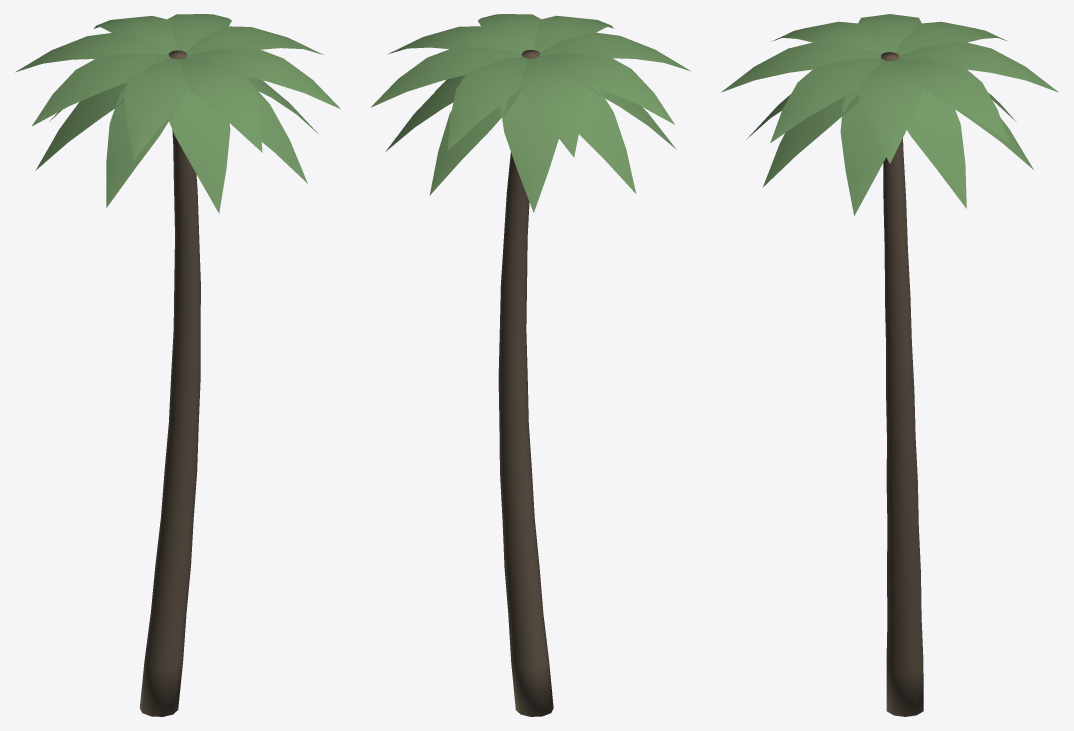
File: SM_LA_PalmTree.glb
3 renders of one model, left to right at view 1: azimuth 30°, elevation 25°; view 2: azimuth 150°, elevation 25°; view 3: azimuth 270°, elevation 25°, orthographic.
Visible parts, largest first — view 1: SM_LA_PalmTree_Mesh; view 2: SM_LA_PalmTree_Mesh; view 3: SM_LA_PalmTree_Mesh.
Boxes of the visible parts, x1,y1,x2,y2 form: SM_LA_PalmTree_Mesh: [15, 14, 340, 716]; SM_LA_PalmTree_Mesh: [370, 14, 690, 716]; SM_LA_PalmTree_Mesh: [721, 14, 1058, 716].
Size of what is drawn, in the model's own units: 4.9 by 10.58 by 4.9.
Materials: 2 (1 with a texture image).
